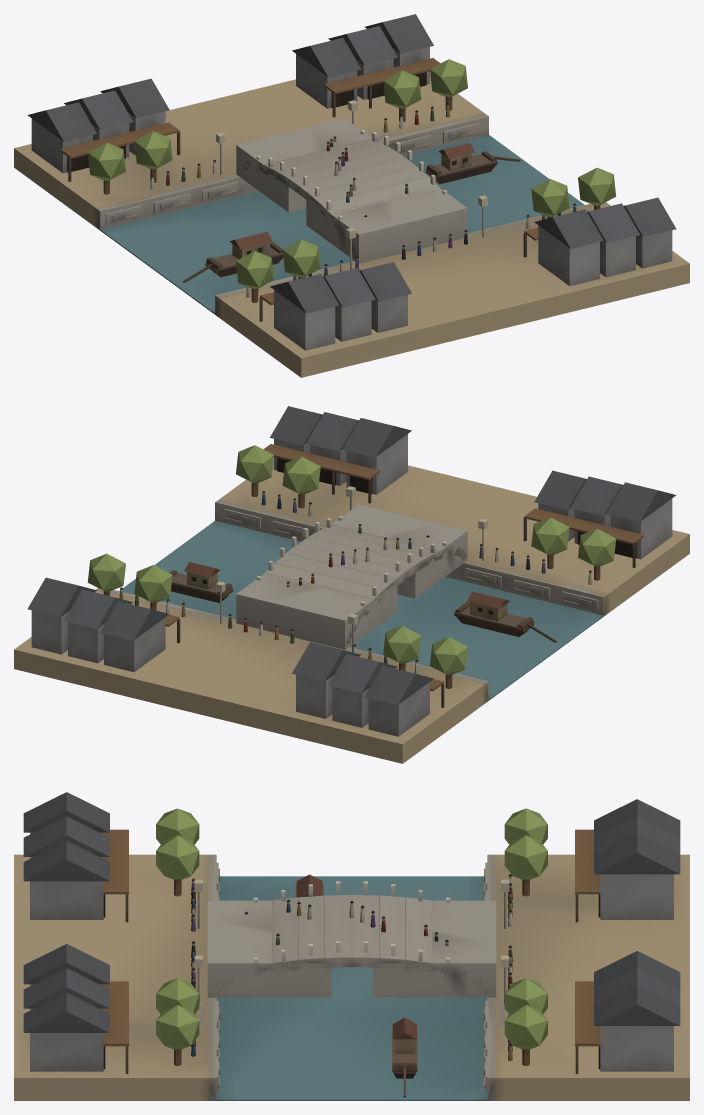
File: zhouqiao-ming.glb
3 views of the same model, one above another, from view 1: azimuth 30°, elevation 25°; view 2: azimuth 150°, elevation 25°; view 3: azimuth 270°, elevation 25° (orthographic). The views are drawn at different scales.
Parts seen in each view (by area): view 1: p0_banks, p2_houses, p1_bridge; view 2: p0_banks, p2_houses, p1_bridge; view 3: p0_banks, p2_houses, p1_bridge.
Boxes of the visible parts, x1,y1,x2,y2 form: p0_banks: (14, 73, 689, 377); p2_houses: (27, 14, 676, 350); p1_bridge: (236, 118, 525, 263); p0_banks: (14, 459, 689, 763); p2_houses: (27, 406, 676, 736); p1_bridge: (178, 504, 467, 649); p0_banks: (14, 854, 689, 1100); p2_houses: (23, 792, 680, 1097); p1_bridge: (199, 895, 504, 1028).
Bounding box in the file's own units: 50 × 9.51 × 64.
